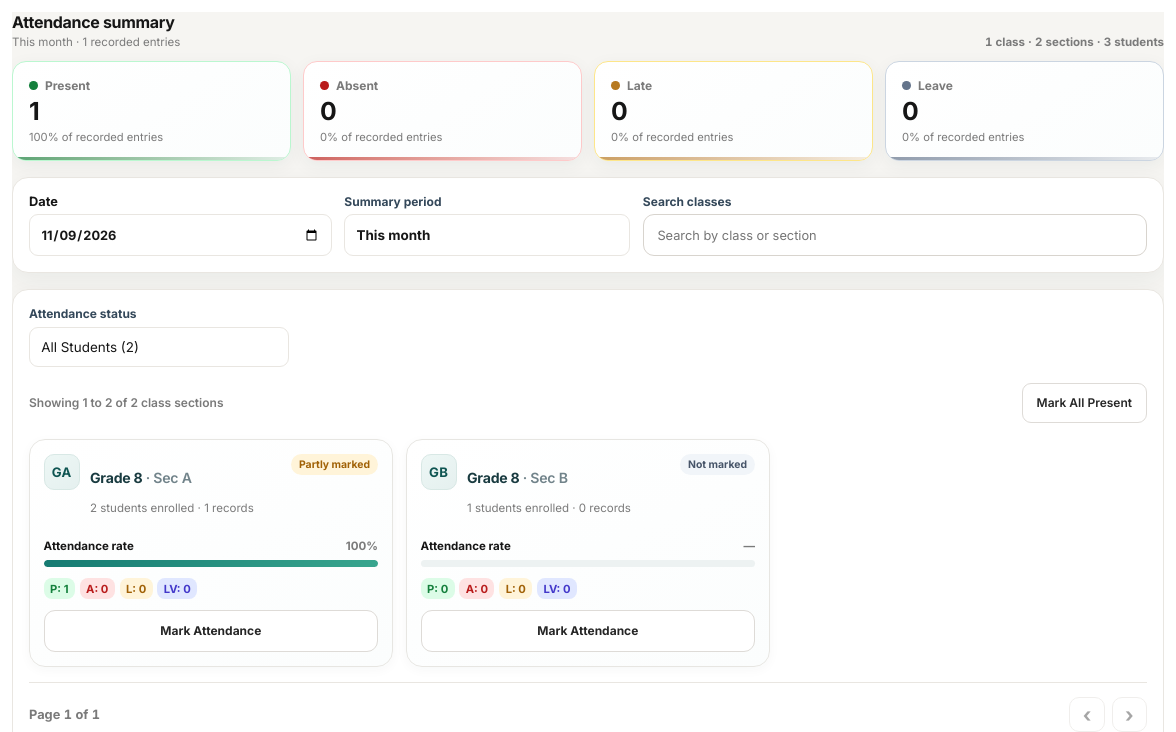
AttendanceClassesOverview › filters class registers by attendance completion status
This screenshot has width=1176, height=732.
Expected: the text "Showing 1 to 2 of 2 class sections" is shown, [29,395,224,410]
Expected: the text "1 class · 2 sections · 3 students" is shown, [985,35,1164,49]
Select "Not marked (1)" in the dropdown labelled "Attendance status" at x=159, y=347, box [29,327,289,367]
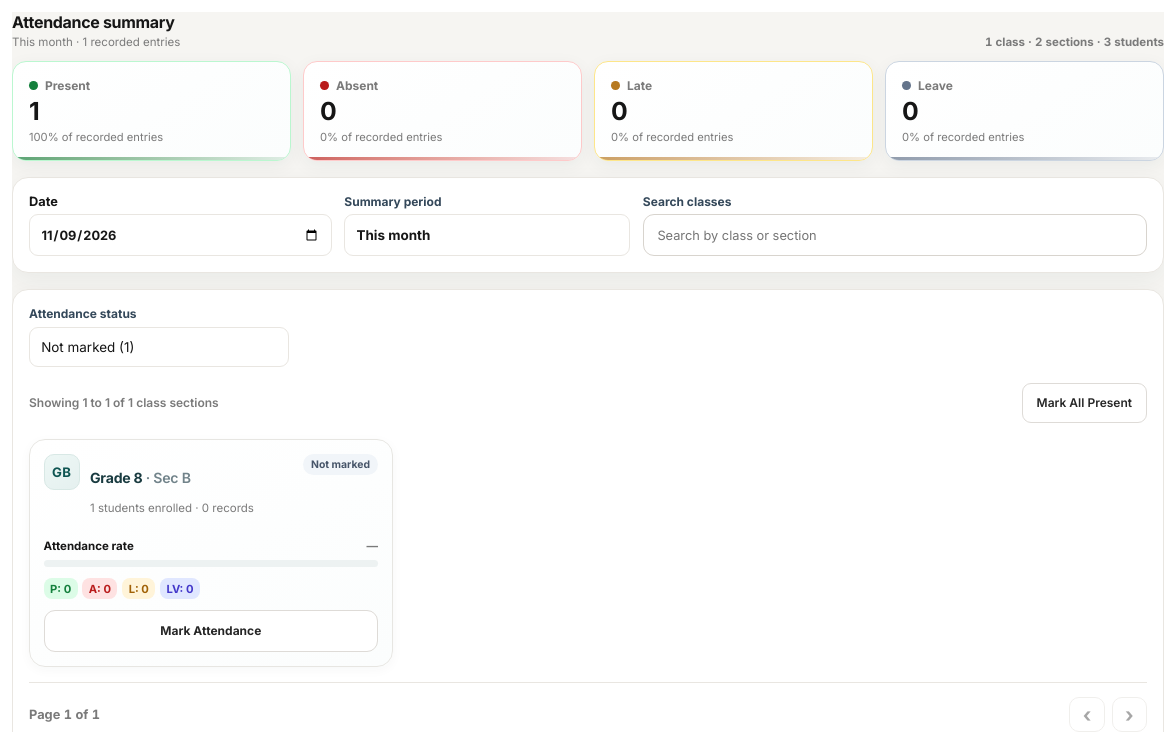
Expected: the heading "Grade 8 · Sec B" is shown, [90,469,191,486]
Expected: the text "Showing 1 to 1 of 1 class sections" is shown, [29,395,219,410]
Expected: the heading "Grade 8 · Sec A" is gone
